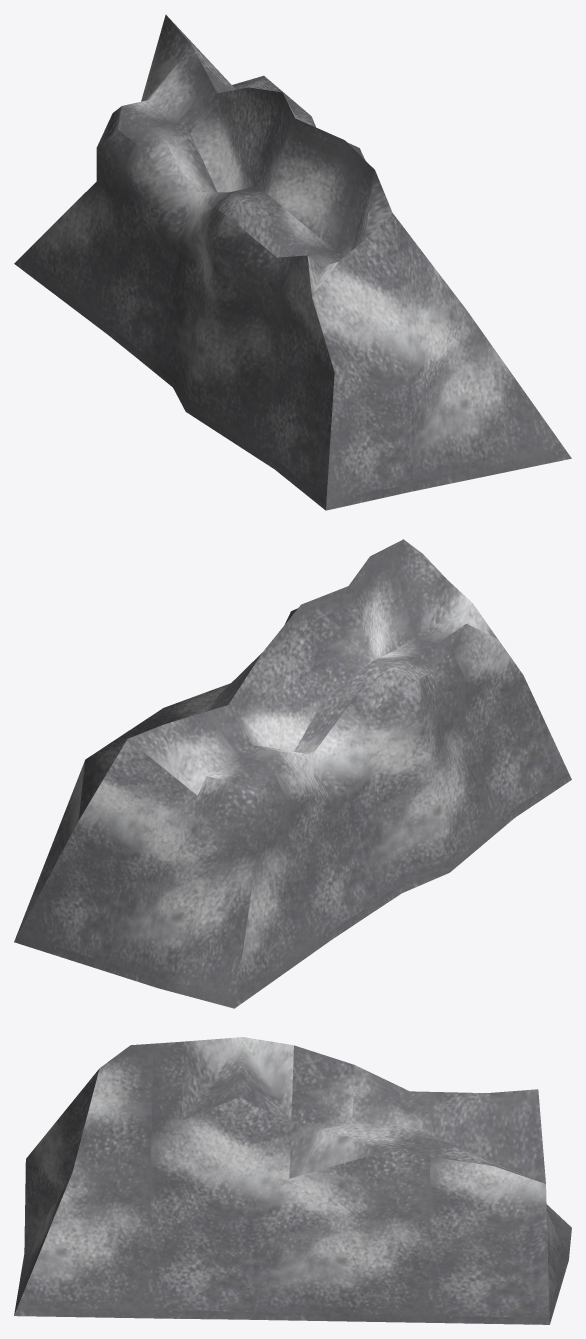
The model's file is MountainL2.FBX.
3 views of the same model, one above another, from view 1: azimuth 30°, elevation 25°; view 2: azimuth 150°, elevation 25°; view 3: azimuth 270°, elevation 25° (orthographic). The views are drawn at different scales.
Parts seen in each view (by area): view 1: MountainL2; view 2: MountainL2; view 3: MountainL2.
Boxes of the visible parts, left/top/right/bottom form: MountainL2: left=14, top=14, right=571, bottom=510; MountainL2: left=14, top=539, right=571, bottom=1008; MountainL2: left=14, top=1037, right=571, bottom=1324.
Size of the model in its own units: 136 by 133 by 298.
1 material, 1 textured.
